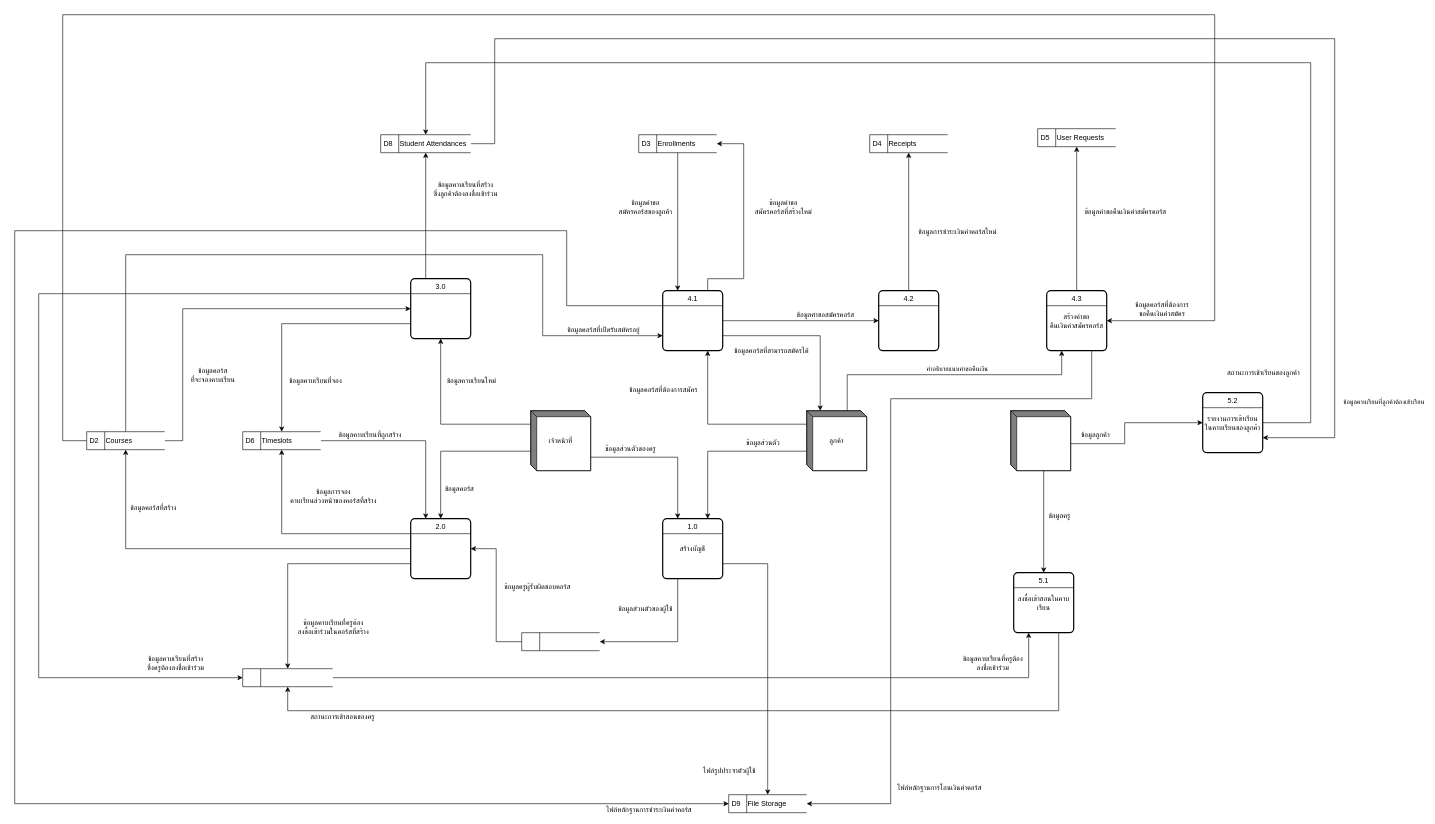
This 1435x824 diagram has some shape labels left out. Each missing label, with the box of its shape:
D1 Users: (521, 632, 600, 651)
D7 Teacher Attendances: (242, 668, 333, 687)
ครู: (1010, 410, 1071, 471)
สร้างคอร์ส: (410, 518, 471, 579)
สร้างคำขอ สมัครคอร์ส: (662, 290, 723, 351)
ออกใบเสร็จการชำระเงินค่าคอร์ส: (878, 290, 939, 351)
เพิ่มคาบเรียน: (410, 278, 471, 339)
